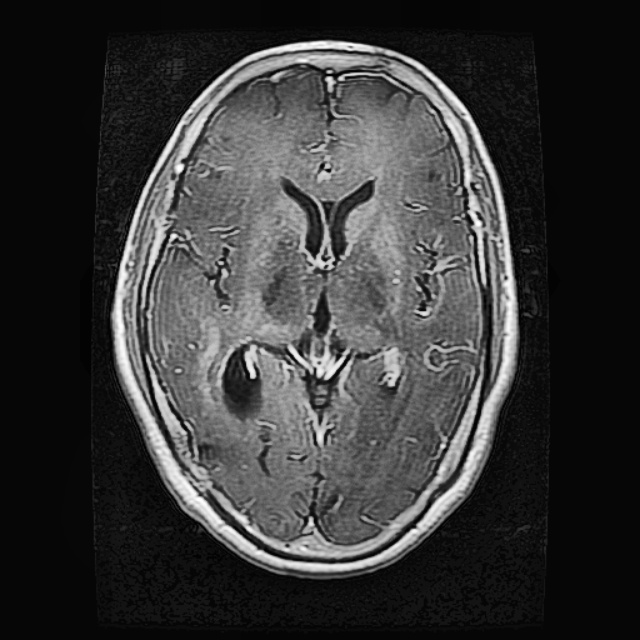Glioma: (219, 343, 259, 419)
